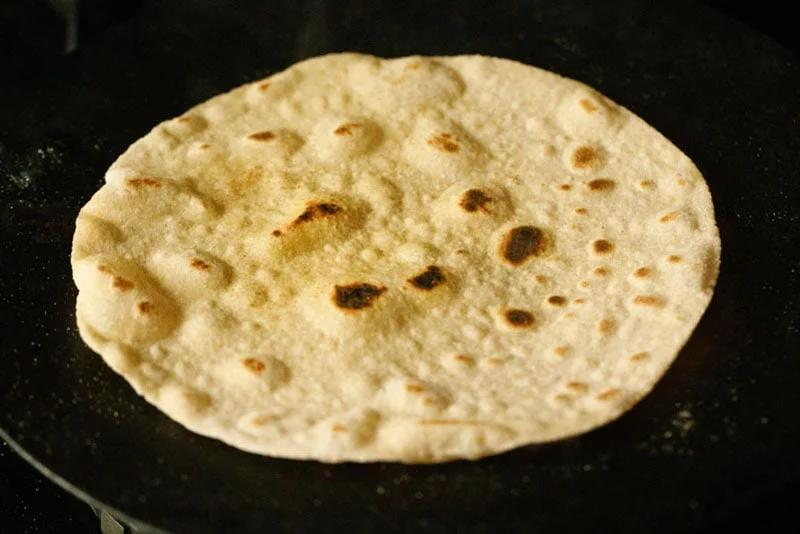roti phulka: (63, 50, 724, 471)
